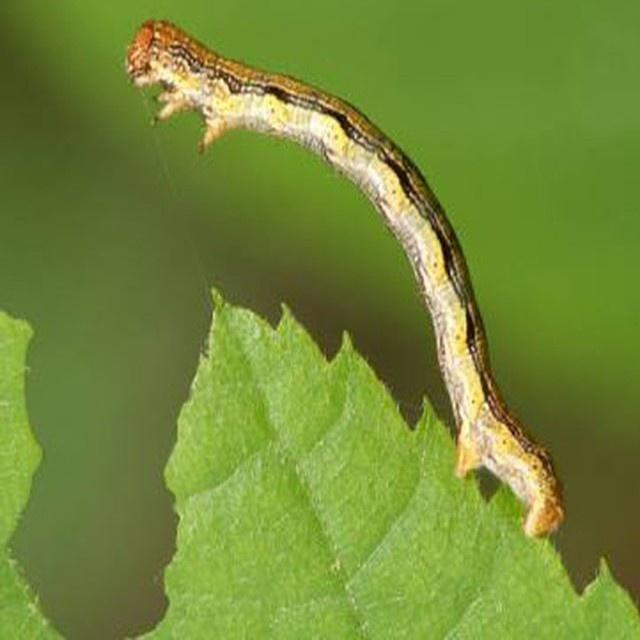gusano_cogollero: (130, 24, 563, 536)
